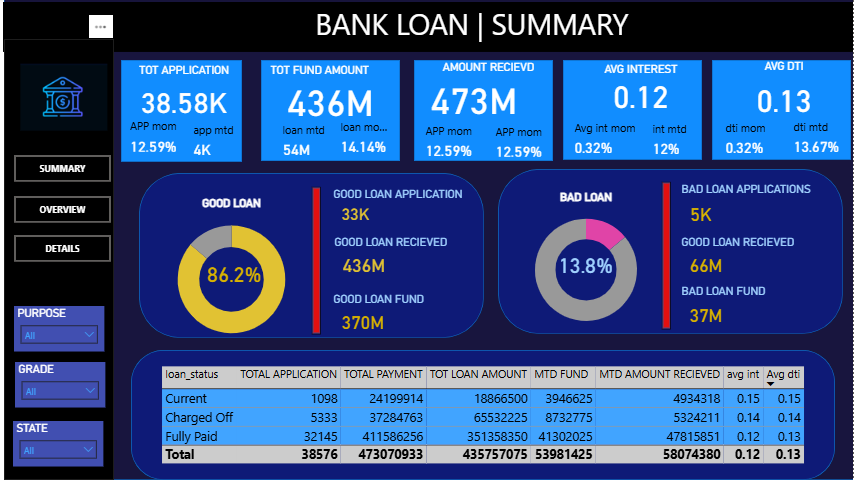

Layout of this report page (visuals, bound fields, positions):
{"tool":"powerbi","page":{"name":"SUMMARY","canvas":[1280,720],"ordinal":0},"visuals":[{"type":"shape","box":[10.5,0,1269.7,720],"z":0},{"type":"card","title":"AVG DTI","fields":{"Values":["date.Avg dti"]},"box":[1086.8,91.3,176.2,95.2],"z":0,"group":"g4"},{"type":"card","title":"AVG INTEREST","fields":{"Values":["date.avg int"]},"box":[866.6,95.4,190.5,76.2],"z":0,"group":"g3"},{"type":"card","title":"TOT FUND AMOUNT","fields":{"Values":["date.TOT LOAN AMOUNT"]},"box":[403.7,96.8,188.8,87.4],"z":0,"group":"g5"},{"type":"card","title":"TOT APPLICATION","fields":{"Values":["date.TOTAL APPLICATION"]},"box":[182.1,97.1,194.1,90.8],"z":0,"group":"g1"},{"type":"shape","box":[9.5,6.3,1269.8,74.6],"z":1000},{"type":"cardVisual","fields":{"Data":["date.APP mom"]},"box":[180.7,177.7,112.6,60.1],"z":1000,"group":"g1"},{"type":"cardVisual","fields":{"Data":["date.dti mtd"]},"box":[1172.5,180.2,107.1,55.3],"z":1000,"group":"g4"},{"type":"shape","box":[10.5,61.2,164.3,658.8],"z":2000},{"type":"cardVisual","fields":{"Data":["date.dti mom"]},"box":[1071,180.2,107.1,56.9],"z":2000,"group":"g4"},{"type":"cardVisual","fields":{"Data":["date.app mtd"]},"box":[275.9,181.9,127.4,60.1],"z":2000,"group":"g1"},{"type":"shape","box":[185.2,92.6,180.7,152.4],"z":3000},{"type":"group","id":"g1","title":"Group 2","box":[180.7,97.1,222.6,144.9],"z":4000},{"type":"shape","box":[394.4,92.6,207.6,150.9],"z":5000},{"type":"shape","box":[622.9,92.6,207.6,150.9],"z":6000},{"type":"shape","box":[845.5,92.6,207.6,149.4],"z":7000},{"type":"cardVisual","fields":{"Data":["date.avg int mom"]},"box":[846,179.5,127.8,60.8],"z":7000,"group":"g3"},{"type":"shape","box":[1068,92.6,207.6,149.4],"z":8000},{"type":"cardVisual","fields":{"Data":["date.int mtd"]},"box":[962.8,181.4,110.2,57.1],"z":8000,"group":"g3"},{"type":"group","id":"g2","title":"Group 1","box":[622.9,92.6,213.6,150.9],"z":9000},{"type":"cardVisual","fields":{"Data":["date.APP mom"]},"box":[726.7,188.9,110.2,54.3],"z":9000,"group":"g2"},{"type":"group","id":"g3","title":"Group 4","box":[846,95.4,226.9,144.9],"z":10000},{"type":"cardVisual","fields":{"Data":["date.APP mom"]},"box":[622.9,185.7,105.7,57.8],"z":10000,"group":"g2"},{"type":"group","id":"g4","title":"Group 5","box":[1071,91.3,208.6,145.8],"z":11000},{"type":"shape","box":[212.1,261.4,515.4,246.5],"z":12000},{"type":"group","id":"g5","title":"Group 3","box":[403.7,96.8,197.9,144.7],"z":13000},{"type":"cardVisual","fields":{"Data":["date.loan mtd"]},"box":[409,181.2,103.2,60.3],"z":13000,"group":"g5"},{"type":"cardVisual","fields":{"Data":["date.loan mom"]},"box":[495.8,175.8,105.8,62.3],"z":14000,"group":"g5"},{"type":"donutChart","title":"GOOD LOAN","fields":{"Y":["date.Good Loan %","date.Remaining %"]},"box":[201.7,295.8,297.3,230],"z":14000},{"type":"card","title":"GOOD LOAN","fields":{"Values":["date.Good Loan % Display"]},"box":[304.7,379.4,98.6,62.7],"z":15000},{"type":"shape","box":[748.4,255.4,515.4,246.5],"z":16000},{"type":"shape","box":[470.5,282.3,13.4,219.6],"z":17000},{"type":"cardVisual","title":"AMOUNT RECIEVD","fields":{"Data":["date.TOTAL PAYMENT"]},"box":[630.6,92.6,207.1,94.6],"z":18000,"group":"g2"},{"type":"donutChart","title":"BAD LOAN","fields":{"Y":["date.BAD LOAN","date.Remaining % bd"]},"box":[711,286.8,337.6,219.6],"z":18000},{"type":"card","fields":{"Values":["date.Bad Loan % Display"]},"box":[830.5,366,97.1,62.7],"z":19000},{"type":"shape","box":[993.4,274.9,13.4,219.6],"z":20000},{"type":"cardVisual","title":"GOOD LOAN APPLICATION","fields":{"Data":["date.good loan applications"]},"box":[497.4,282.3,374.9,55.3],"z":21000},{"type":"cardVisual","title":"GOOD LOAN FUND","fields":{"Data":["date.Good loan fund"]},"box":[497.4,439.2,195.7,62.7],"z":22000},{"type":"cardVisual","title":"GOOD LOAN RECIEVED","fields":{"Data":["date.good loan recieved"]},"box":[498.9,354,228.5,62.7],"z":23000},{"type":"cardVisual","title":"BAD LOAN APPLICATIONS","fields":{"Data":["date.Bad loan application"]},"box":[1017.3,274.9,234.5,68.7],"z":24000},{"type":"cardVisual","title":"BAD LOAN FUND","fields":{"Data":["date.Bad loan recieved"]},"box":[1017.3,427.2,165.8,67.2],"z":25000},{"type":"cardVisual","title":"GOOD LOAN RECIEVED","fields":{"Data":["date.Bad loan fund"]},"box":[1017.3,354,204.6,62.7],"z":26000},{"type":"shape","box":[200.2,525.8,1051.6,194.2],"z":27000},{"type":"tableEx","fields":{"Values":["financial_loan.loan_status","date.TOTAL APPLICATION","date.TOTAL PAYMENT","date.TOT LOAN AMOUNT","date.MTD FUND","date.MTD AMOUNT","date.avg int","date.Avg dti"]},"box":[240.5,545.2,978.4,155.4],"z":28000},{"type":"slicer","title":"PURPOSE","fields":{"Values":["financial_loan.purpose"]},"box":[25.4,460.3,134.9,68.3],"z":29000},{"type":"slicer","title":"GRADE","fields":{"Values":["financial_loan.grade"]},"box":[27,544.4,134.9,68.3],"z":30000},{"type":"slicer","title":"STATE","fields":{"Values":["financial_loan.address_state"]},"box":[23.8,631.7,134.9,68.3],"z":31000},{"type":"image","box":[30.2,79.4,139.7,136.5],"z":32000},{"type":"textbox","box":[469.8,4.8,495.2,87.3],"z":33000},{"type":"actionButton","box":[25.4,234.5,144.9,40.3],"z":34000},{"type":"actionButton","box":[25.4,295.8,144.9,40.3],"z":35000},{"type":"actionButton","box":[25.4,354,144.9,40.3],"z":36000}]}

Visuals, with their boxes in screenshot pixels (x1, y1, x2, y2), scaled from the page's 1280x720 canvas onto the 854x480 screenshot:
shape: 7,0,853,479
"AVG DTI" card: 725,61,843,124
"AVG INTEREST" card: 578,64,705,114
"TOT FUND AMOUNT" card: 269,65,395,123
"TOT APPLICATION" card: 121,65,251,125
shape: 6,4,853,54
cardVisual - date.APP mom: 121,118,196,159
cardVisual - date.dti mtd: 782,120,853,157
shape: 7,41,117,479
cardVisual - date.dti mom: 715,120,786,158
cardVisual - date.app mtd: 184,121,269,161
shape: 124,62,244,163
"Group 2" group: 121,65,269,161
shape: 263,62,402,162
shape: 416,62,554,162
shape: 564,62,703,161
cardVisual - date.avg int mom: 564,120,650,160
shape: 713,62,851,161
cardVisual - date.int mtd: 642,121,716,159
"Group 1" group: 416,62,558,162
cardVisual - date.APP mom: 485,126,558,162
"Group 4" group: 564,64,716,160
cardVisual - date.APP mom: 416,124,486,162
"Group 5" group: 715,61,853,158
shape: 142,174,485,339
"Group 3" group: 269,65,401,161
cardVisual - date.loan mtd: 273,121,342,161
cardVisual - date.loan mom: 331,117,401,159
"GOOD LOAN" donutChart: 135,197,333,351
"GOOD LOAN" card: 203,253,269,295
shape: 499,170,843,335
shape: 314,188,323,335
"AMOUNT RECIEVD" cardVisual: 421,62,559,125
"BAD LOAN" donutChart: 474,191,700,338
card - date.Bad Loan % Display: 554,244,619,286
shape: 663,183,672,330
"GOOD LOAN APPLICATION" cardVisual: 332,188,582,225
"GOOD LOAN FUND" cardVisual: 332,293,462,335
"GOOD LOAN RECIEVED" cardVisual: 333,236,485,278
"BAD LOAN APPLICATIONS" cardVisual: 679,183,835,229
"BAD LOAN FUND" cardVisual: 679,285,789,330
"GOOD LOAN RECIEVED" cardVisual: 679,236,815,278
shape: 134,351,835,479
tableEx - financial_loan.loan_status x date.TOTAL APPLICATION: 160,363,813,467
"PURPOSE" slicer: 17,307,107,352
"GRADE" slicer: 18,363,108,408
"STATE" slicer: 16,421,106,467
image: 20,53,113,144
textbox: 313,3,644,61
actionButton: 17,156,114,183
actionButton: 17,197,114,224
actionButton: 17,236,114,263
